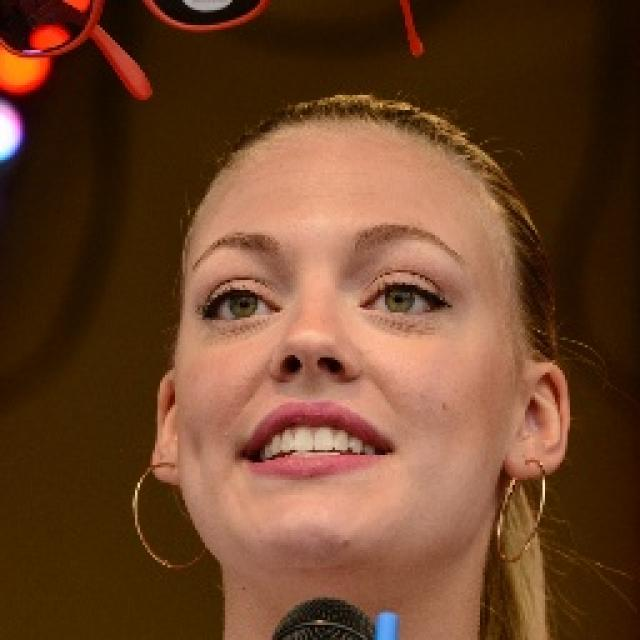earlobe: (504, 363, 569, 481), (151, 369, 183, 487)
